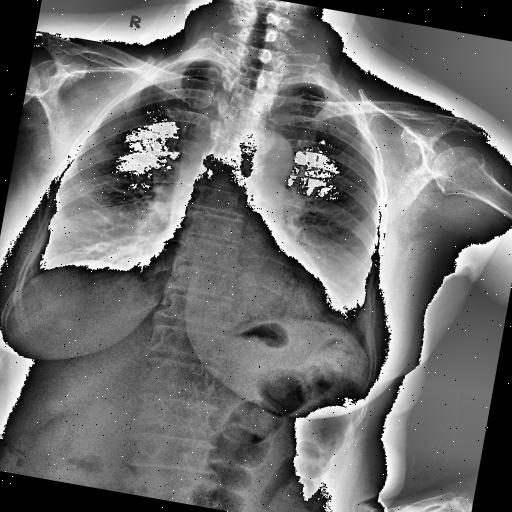0- Aortic enlargement: (240, 126, 296, 188), (247, 124, 297, 181), (239, 128, 300, 174)
3- Cardiomegaly: (122, 226, 340, 325), (137, 228, 348, 325), (138, 228, 340, 328)
